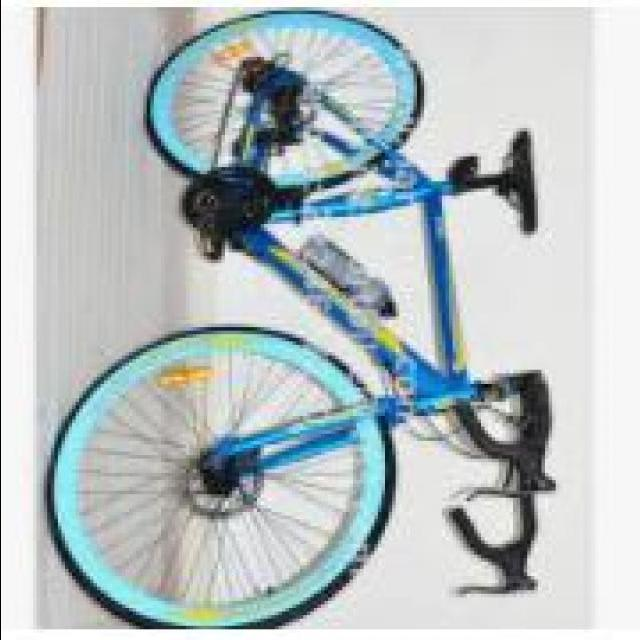bicycle: (48, 8, 570, 620)
